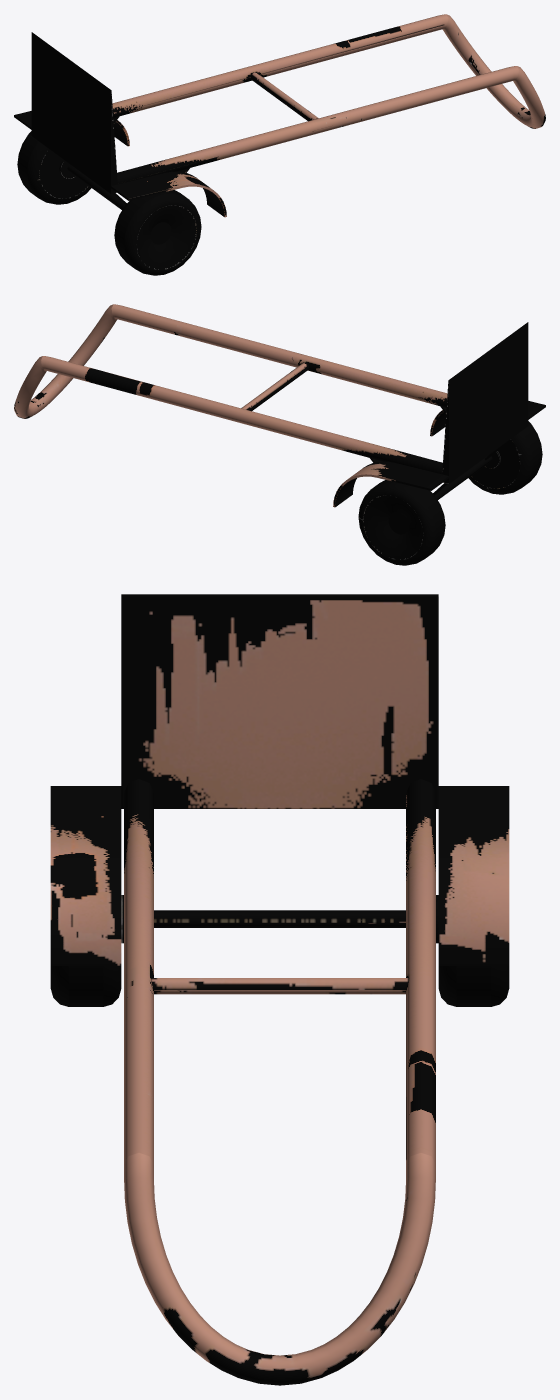
The model's file is props_well_hand_truck01.glb.
3 views of the same model, one above another, from view 1: azimuth 30°, elevation 25°; view 2: azimuth 150°, elevation 25°; view 3: azimuth 270°, elevation 25° (orthographic). The views are drawn at different scales.
Visible parts, largest first — view 1: models/props_well/hand_truck01; view 2: models/props_well/hand_truck01; view 3: models/props_well/hand_truck01.
Part boxes in pixels (x1,y1,x2,y2): models/props_well/hand_truck01: (14,14,545,275); models/props_well/hand_truck01: (14,304,545,565); models/props_well/hand_truck01: (50,594,509,1385).
Size of the model in its own units: 84.48 by 32.2 by 36.4.
Materials: 1 (1 with a texture image).
